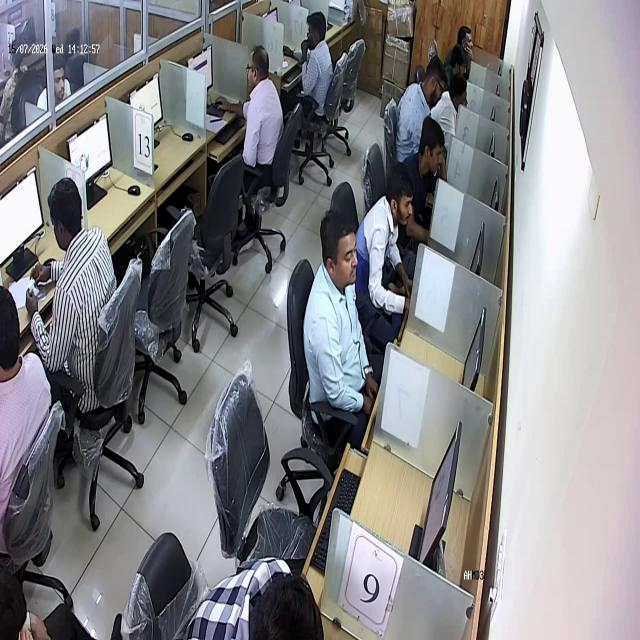paper-chit: (27, 279, 40, 298)
